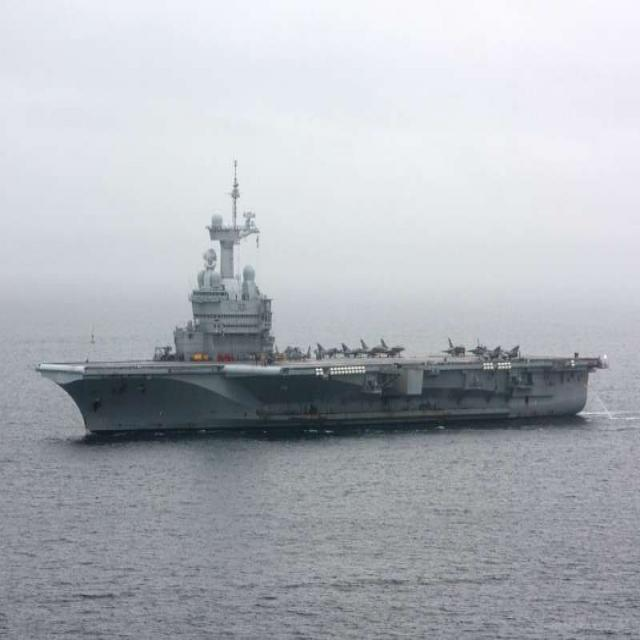Portanaves: (36, 152, 615, 445)
